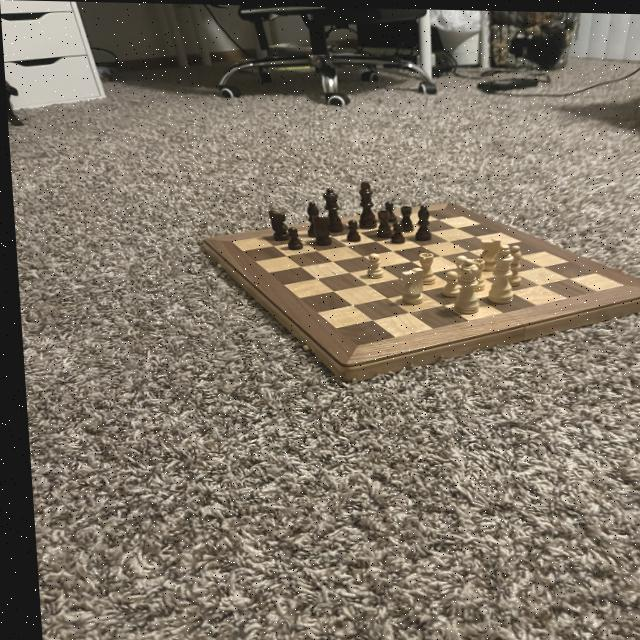bishop: (409, 201, 430, 240), (300, 199, 320, 238)
black-bishop: (351, 178, 375, 229)
black-king: (307, 212, 331, 247), (264, 208, 288, 241)
black-knight: (384, 218, 403, 244), (340, 217, 359, 242), (282, 225, 301, 249), (379, 198, 394, 220)
black-pawn: (318, 185, 342, 232)
black-queen: (393, 202, 413, 231), (372, 206, 391, 236)
black-rook: (497, 240, 524, 286)
white-bishop: (479, 240, 515, 305)
white-king: (470, 233, 502, 271), (395, 262, 423, 305)
white-knight: (433, 268, 459, 298), (360, 251, 380, 278), (448, 252, 465, 280)
white-pawn: (444, 256, 477, 314)
white-queen: (409, 249, 435, 283), (461, 255, 485, 291)
